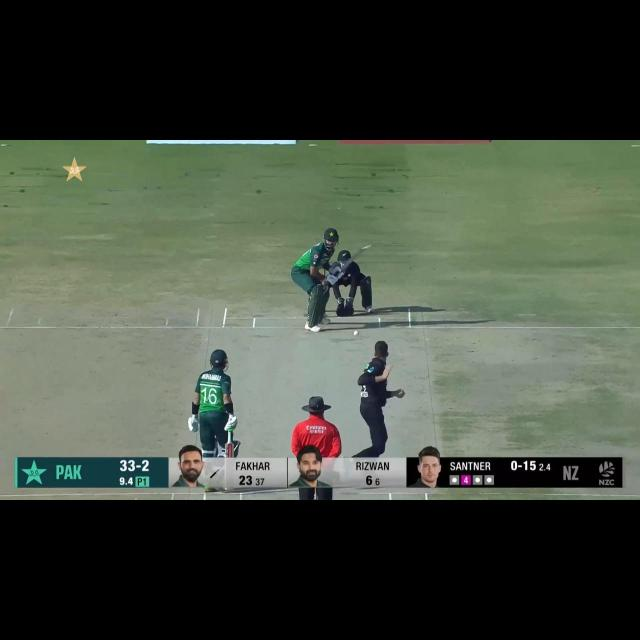bat: (336, 244, 373, 274), (226, 443, 234, 458)
toe: (361, 242, 371, 252)
